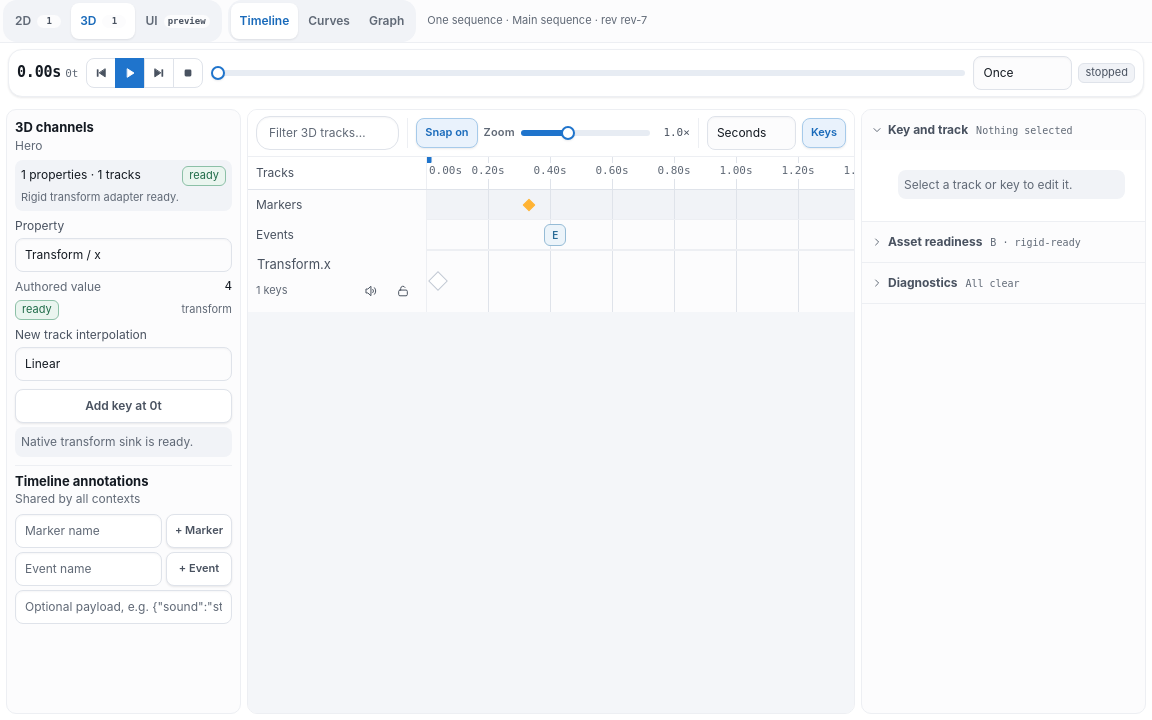
Scenario: Graph is a sequence-scoped workspace surface across 2D, 3D, and UI context changes
Expected: the element with test id "animation-context-readiness" is shown, [15,160,232,211]
Click the tab "Graph" at x=387, y=21, box [360,3,413,39]
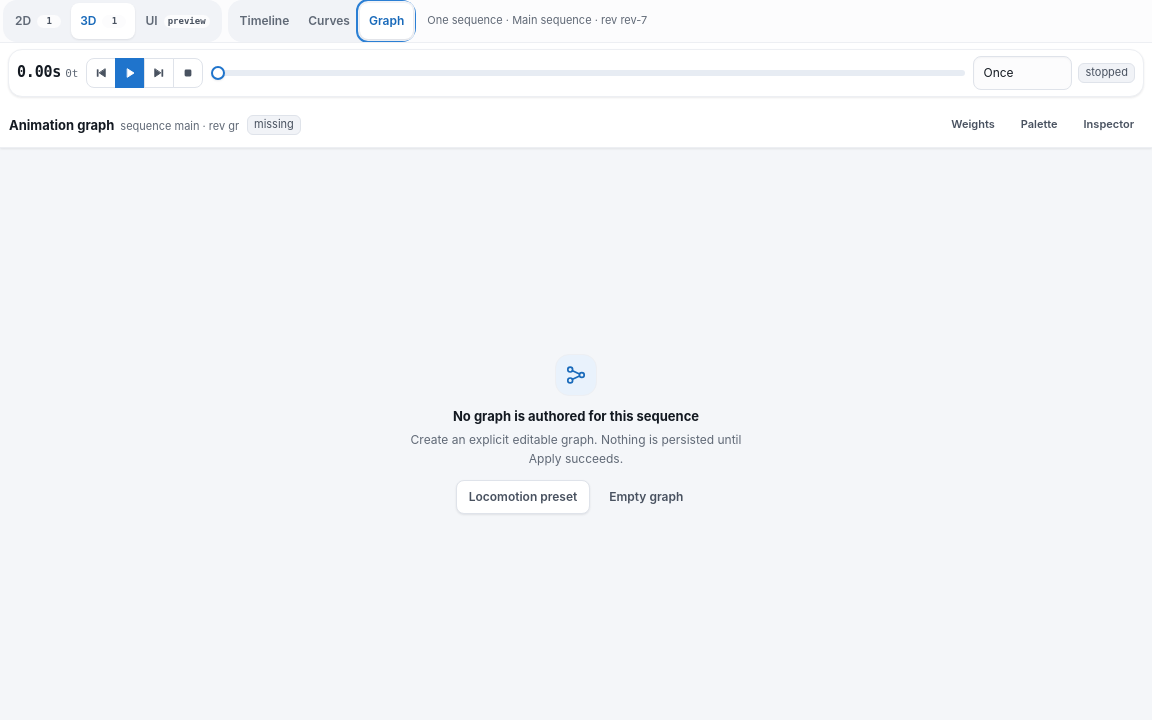
Result: the text "No graph is authored for this sequence" is shown at [453,408,699,425]
Click the tab "UI preview" at x=178, y=21, box [136,3,219,39]
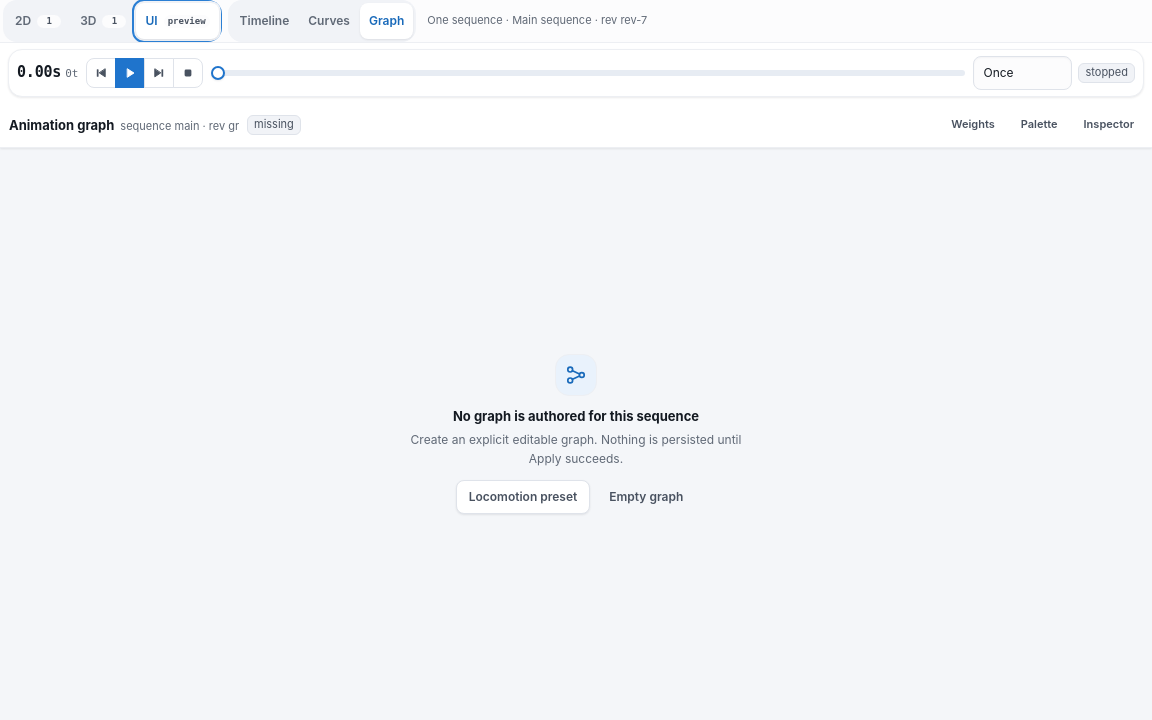
Result: the element with test id "animation-graph-editor" is shown
Click the tab "Timeline" at x=264, y=21, box [231,3,298,39]
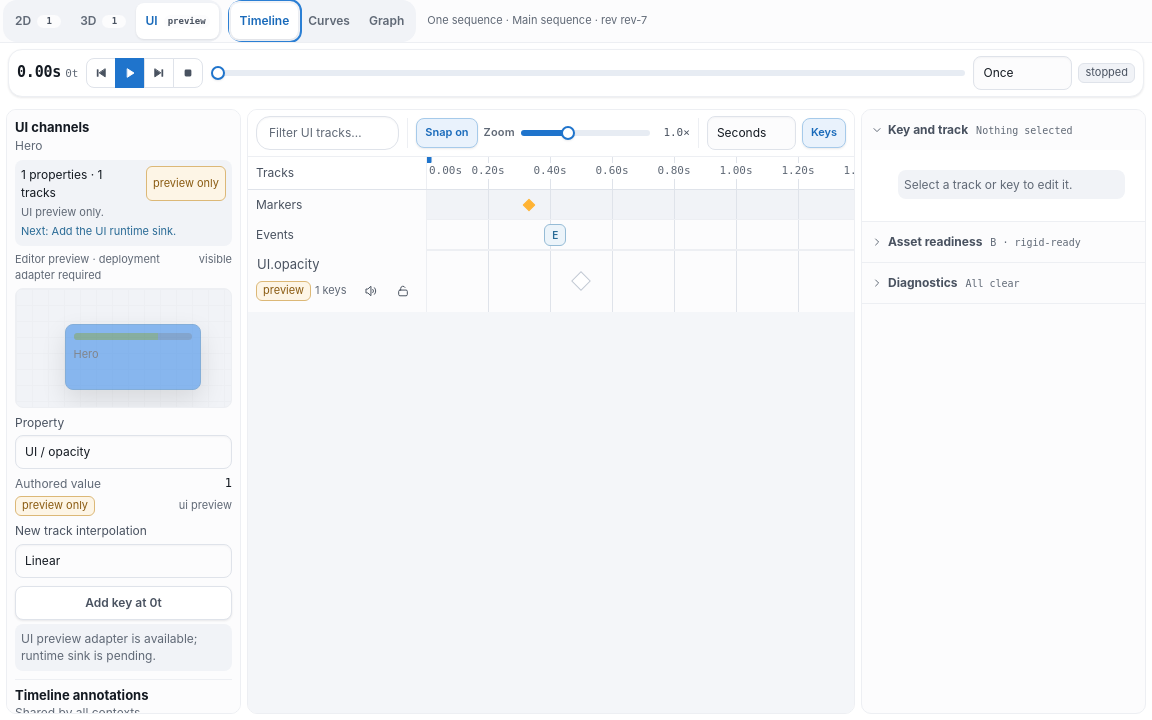
Result: the element with test id "animation-timeline-viewport" is shown at [248,157,854,713]
Click the tab "Graph" at x=387, y=21, box [360,3,413,39]
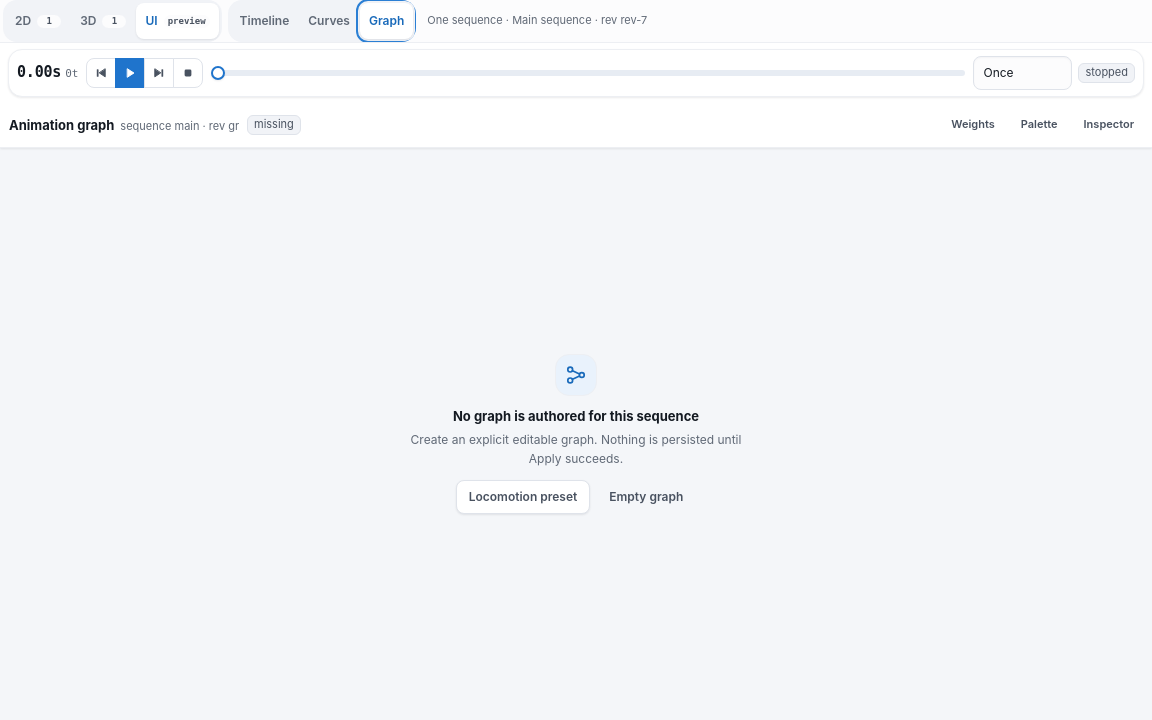
Result: the element with test id "animation-graph-editor" is shown
